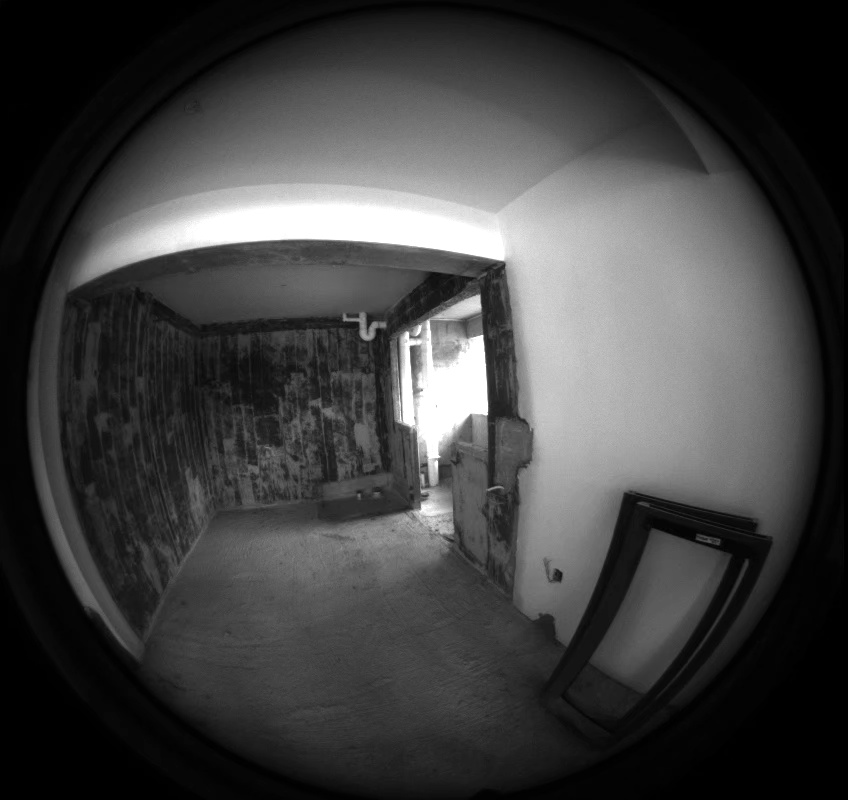Ceiling: (75, 83, 488, 324)
Floor: (0, 0, 599, 796)
Pipe: (44, 29, 386, 341)
Tools: (90, 48, 408, 520)
Wall: (59, 287, 378, 634), (60, 289, 213, 630)
Windows: (228, 247, 771, 738)
